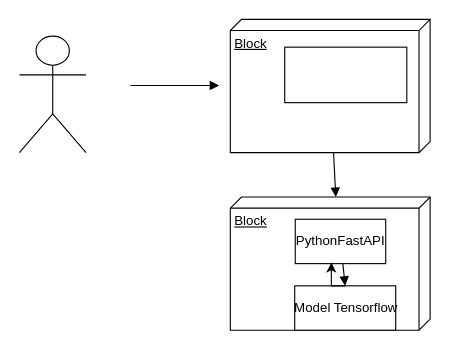
Some shapes in this 450 by 350 pixel diagram are drawn without their labels. The shapes that lost their labels are listed below. From the top down, each one's box as (x1, y1, x2, y2) in pixels, then its label:
(18, 35, 86, 153): Actor
(284, 46, 407, 103): Interfata WEB react
